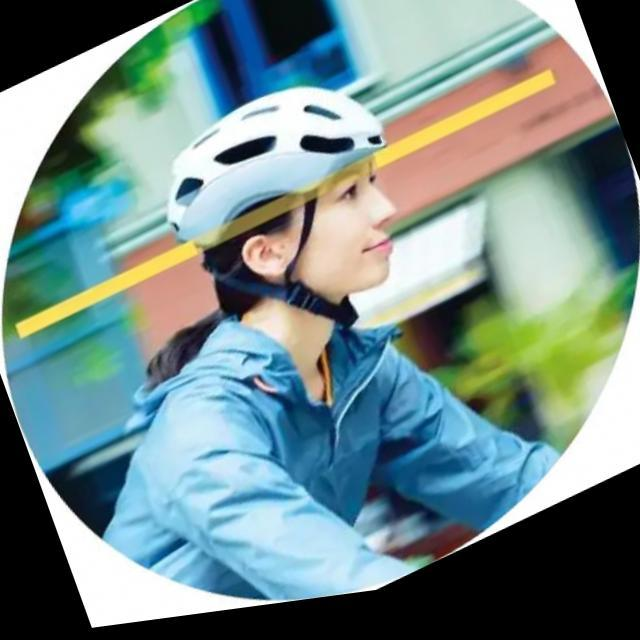Helmet: (164, 83, 405, 294)
